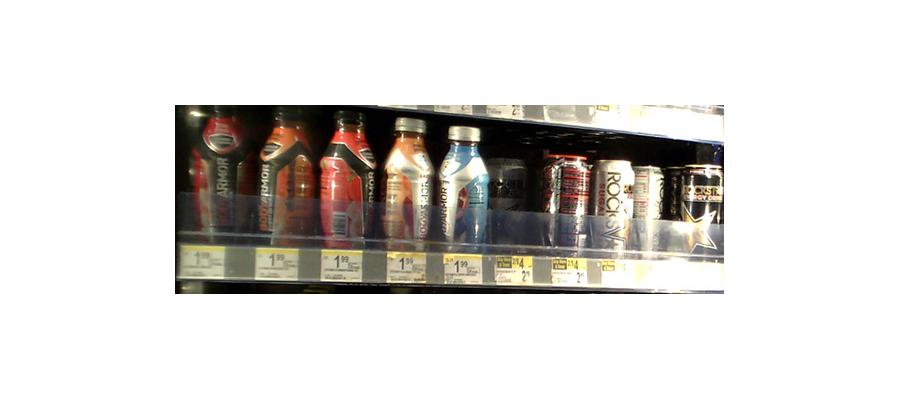bottle: (258, 104, 316, 245), (319, 106, 374, 245), (193, 110, 251, 240), (380, 111, 431, 250), (436, 122, 489, 250), (542, 150, 589, 257), (675, 156, 725, 254), (490, 151, 535, 252), (595, 153, 632, 263)
